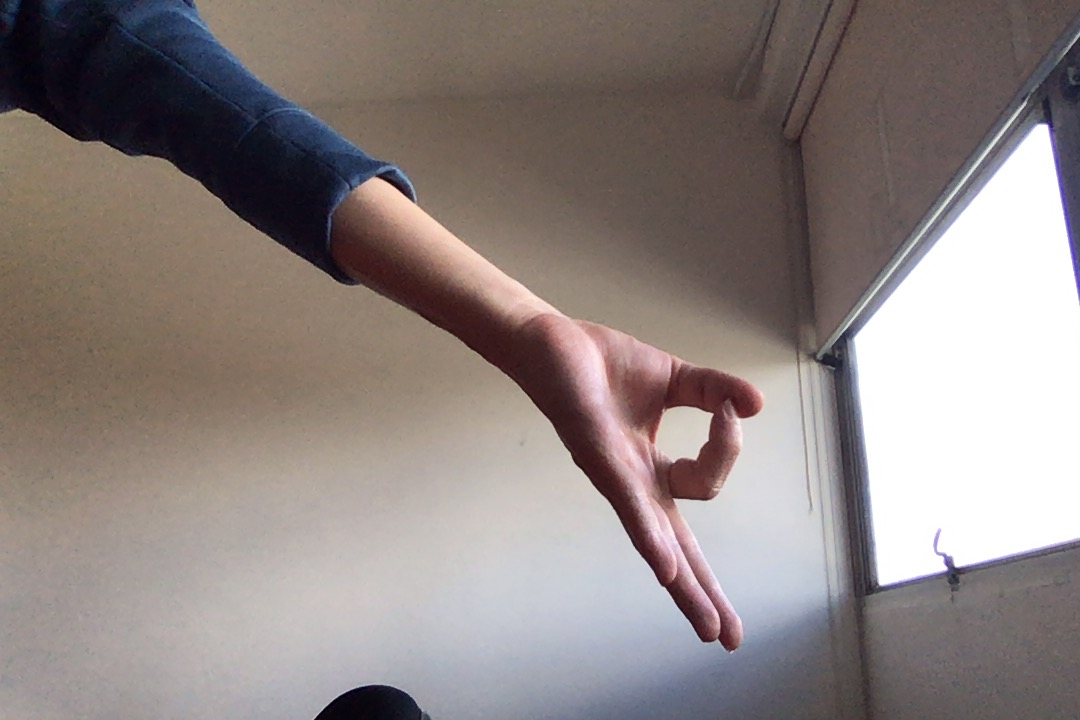oksign: (546, 301, 769, 662)
